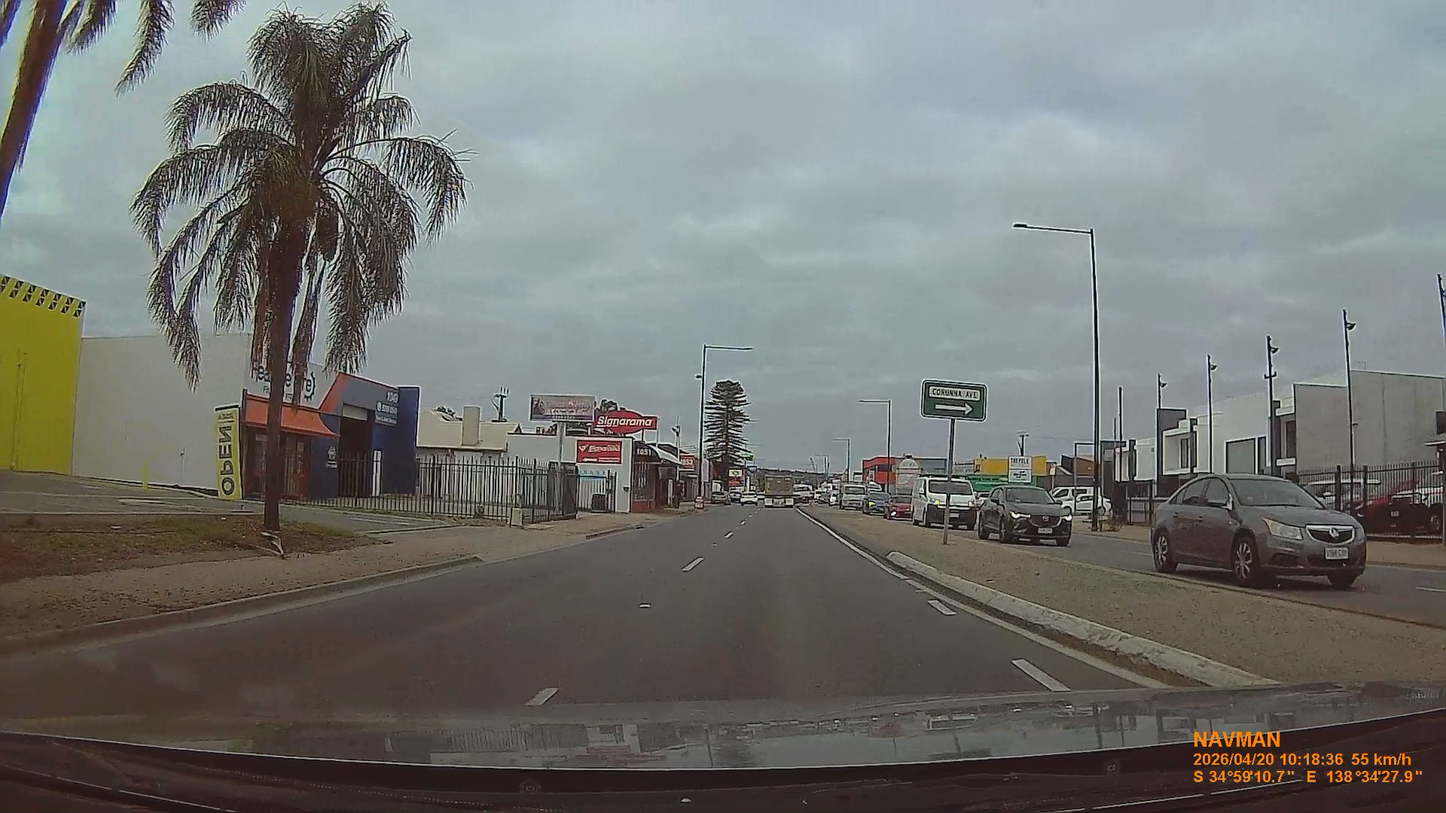fences: (1103, 482, 1164, 527)
